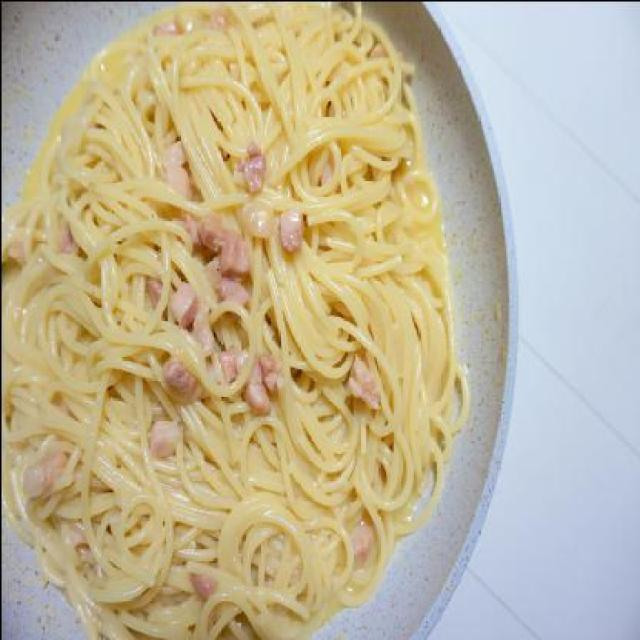Pasta: (2, 9, 460, 600)
